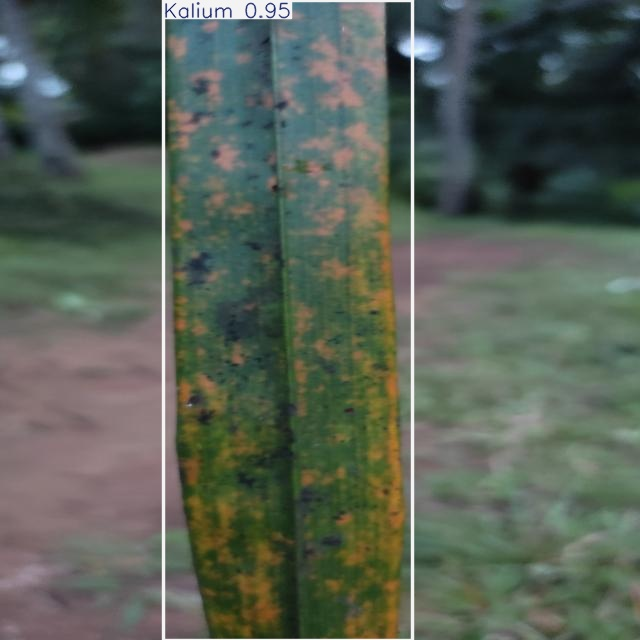Kalium: (163, 0, 413, 640)
